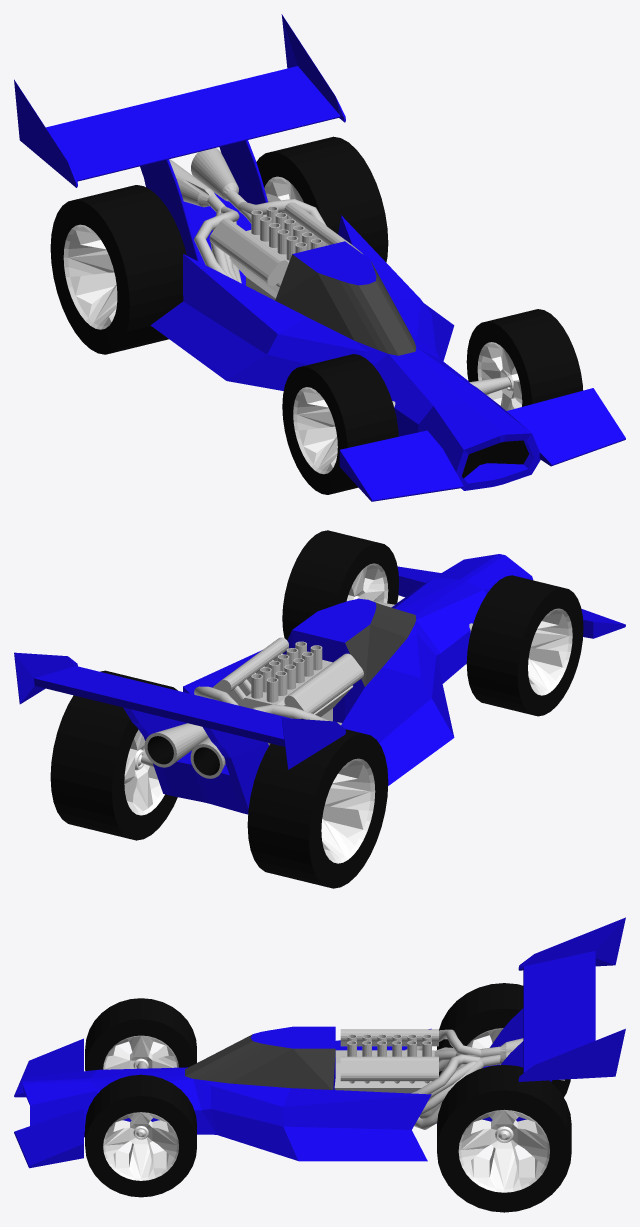
Rendered from f1-70s_all_model.obj.
3 views of the same model, one above another, from view 1: azimuth 30°, elevation 25°; view 2: azimuth 150°, elevation 25°; view 3: azimuth 270°, elevation 25° (orthographic). The views are drawn at different scales.
Parts seen in each view (by area): view 1: Plane, Circle, Circle.001, Circle.003, Circle.002; view 2: Plane, Circle, Circle.001, Circle.003, Circle.002; view 3: Plane, Circle.003, Circle.002, Circle.001, Circle.
Part boxes in pixels (x1,y1,x2,y2): Plane: [14, 14, 625, 501]; Circle: [50, 185, 186, 354]; Circle.001: [282, 354, 398, 494]; Circle.003: [256, 136, 388, 262]; Circle.002: [466, 309, 583, 410]; Plane: [14, 554, 625, 814]; Circle: [247, 718, 388, 888]; Circle.001: [466, 575, 583, 716]; Circle.003: [50, 670, 177, 840]; Circle.002: [282, 530, 398, 639]; Plane: [14, 917, 625, 1168]; Circle.003: [437, 1065, 571, 1212]; Circle.002: [85, 1074, 196, 1197]; Circle.001: [85, 998, 196, 1070]; Circle: [437, 983, 570, 1097].
Bounding box in the file's own units: 7.87 × 6.09 × 18.17.
